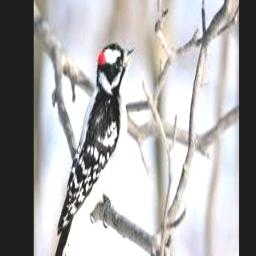Woodpecker: (50, 44, 136, 256)
